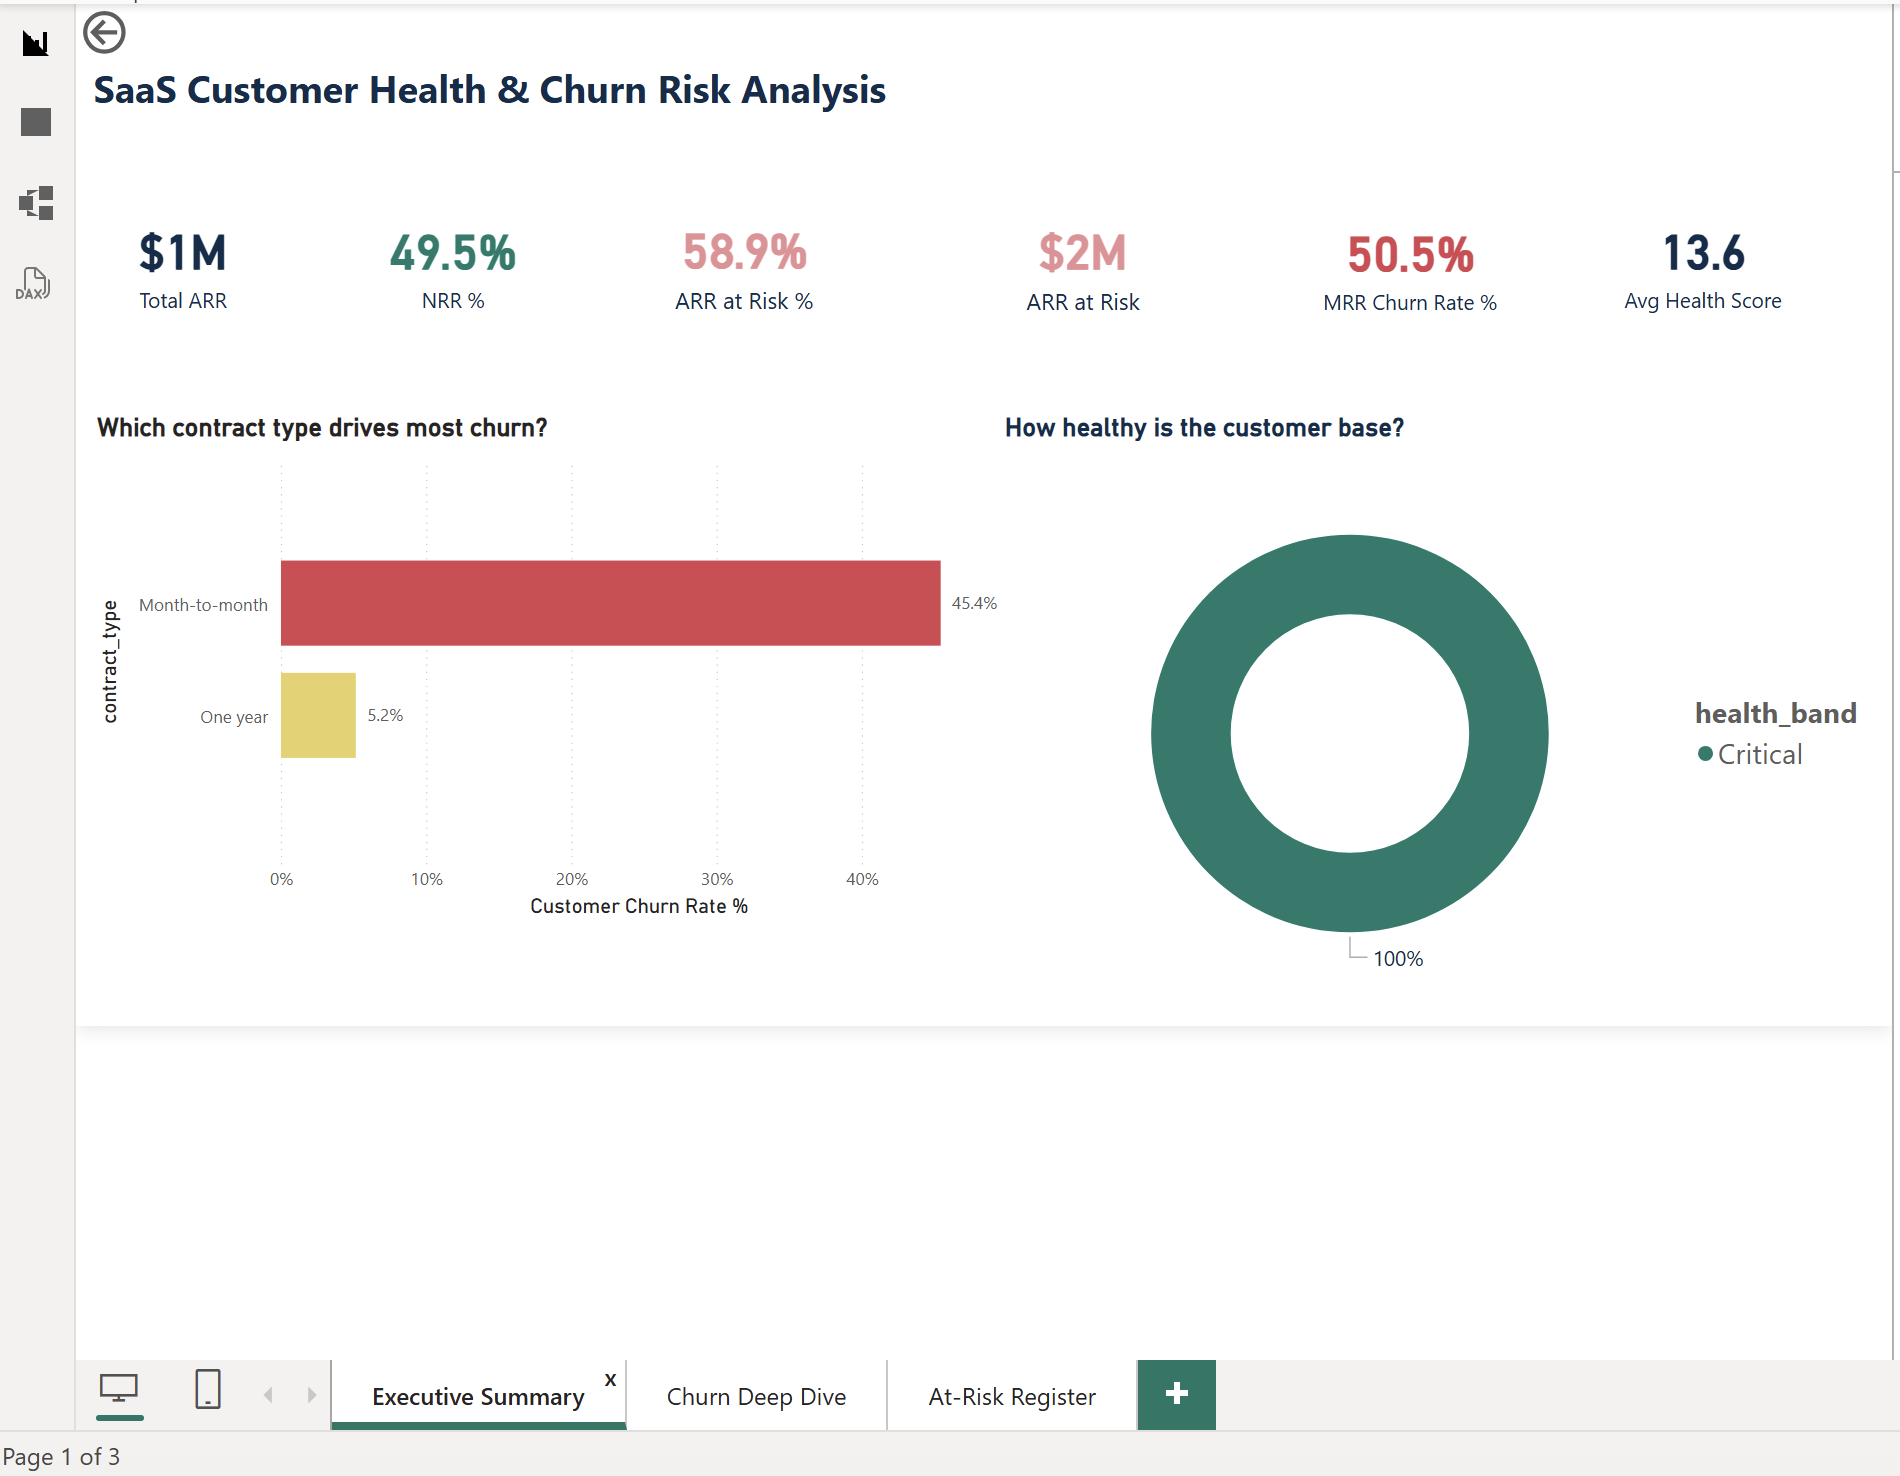

The dashboard page shown, as its layout file describes it:
{"tool":"powerbi","page":{"name":"Executive Summary","canvas":[1280,720],"ordinal":0},"visuals":[{"type":"textbox","box":[0,0,1280,720.4],"z":0},{"type":"card","fields":{"Values":["_measures.Total ARR"]},"box":[0,101.5,150.8,160.7],"z":1000},{"type":"card","fields":{"Values":["_measures.MRR Churn Rate %"]},"box":[850,100.1,180.4,166.3],"z":2000},{"type":"card","fields":{"Values":["_measures.NRR %"]},"box":[193.1,101.5,145.2,160.7],"z":3000},{"type":"card","fields":{"Values":["_measures.Avg Health Score"]},"box":[1030.5,94.4,232.6,174.8],"z":4000},{"type":"card","fields":{"Values":["_measures.ARR at Risk"]},"box":[620.3,110,179,145.2],"z":5000},{"type":"card","fields":{"Values":["_measures.ARR at Risk %"]},"box":[376.4,101.5,188.9,160.7],"z":6000},{"type":"clusteredBarChart","title":"Which contract type drives most churn? ","fields":{"Category":["fact_customers.contract_type"],"Y":["_measures.Customer Churn Rate %"]},"box":[9.9,287.6,656.9,360.9],"z":7000},{"type":"donutChart","title":"How healthy is the customer base?","fields":{"Category":["fact_customers.health_band"],"Y":["_measures.Active Customers"]},"box":[649.9,287.6,630.1,432.8],"z":8000},{"type":"actionButton","box":[0,0,100,40],"z":8001}]}

Visuals, with their boxes on the page's 1280x720 design canvas (x1, y1, x2, y2). These are canvas units, not pixel positions in the 1900x1476 screenshot, which may show the page scaled, cropped or inside an application window:
textbox: locate(0, 0, 1280, 720)
card - _measures.Total ARR: locate(0, 102, 151, 262)
card - _measures.MRR Churn Rate %: locate(850, 100, 1030, 266)
card - _measures.NRR %: locate(193, 102, 338, 262)
card - _measures.Avg Health Score: locate(1030, 94, 1263, 269)
card - _measures.ARR at Risk: locate(620, 110, 799, 255)
card - _measures.ARR at Risk %: locate(376, 102, 565, 262)
"Which contract type drives most churn? " clusteredBarChart: locate(10, 288, 667, 648)
"How healthy is the customer base?" donutChart: locate(650, 288, 1280, 720)
actionButton: locate(0, 0, 100, 40)
